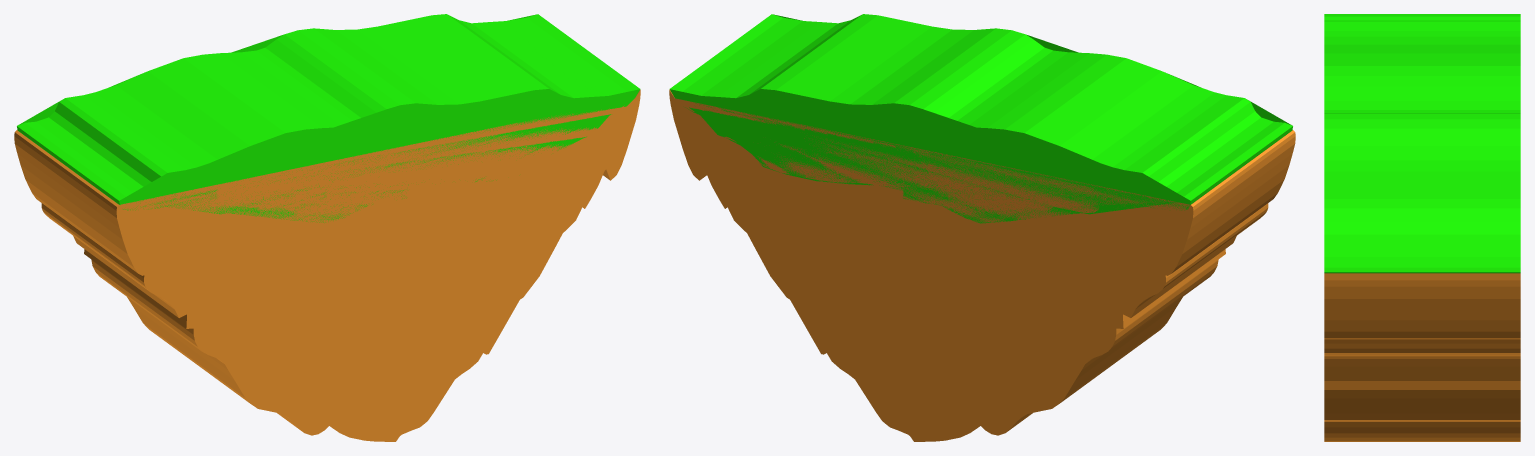
Rendered from uçanadafix.fbx.
3 renders of one model, left to right at view 1: azimuth 30°, elevation 25°; view 2: azimuth 150°, elevation 25°; view 3: azimuth 270°, elevation 25°, orthographic. The views are drawn at different scales.
Parts seen in each view (by area): view 1: Vert.001; view 2: Vert.001; view 3: Vert.001.
Part boxes in pixels (bbox=[...]): Vert.001: bbox=[14, 14, 640, 441]; Vert.001: bbox=[669, 14, 1295, 441]; Vert.001: bbox=[1324, 14, 1520, 441].
Size of the model in its own units: 441 by 270 by 149.
